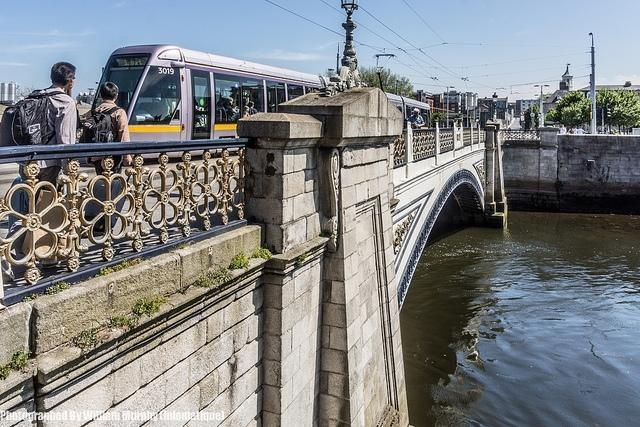bus: (92, 46, 328, 142)
